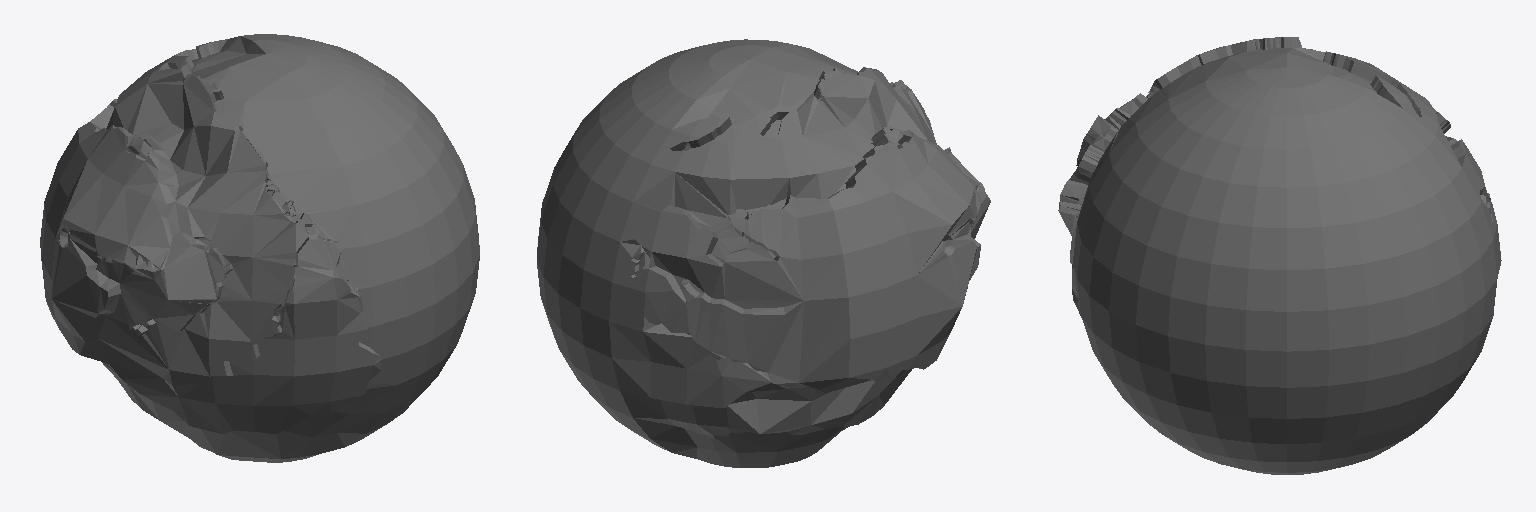
The model's file is Sky.obj.
3 renders of one model, left to right at view 1: azimuth 30°, elevation 25°; view 2: azimuth 150°, elevation 25°; view 3: azimuth 270°, elevation 25°, orthographic.
Visible parts, largest first — view 1: Sky_Object001; view 2: Sky_Object001; view 3: Sky_Object001.
Boxes of the visible parts, x1,y1,x2,y2 form: Sky_Object001: [40, 34, 479, 462]; Sky_Object001: [537, 39, 990, 467]; Sky_Object001: [1058, 37, 1501, 474].
Bounding box in the file's own units: 86.03 × 80.72 × 82.71.